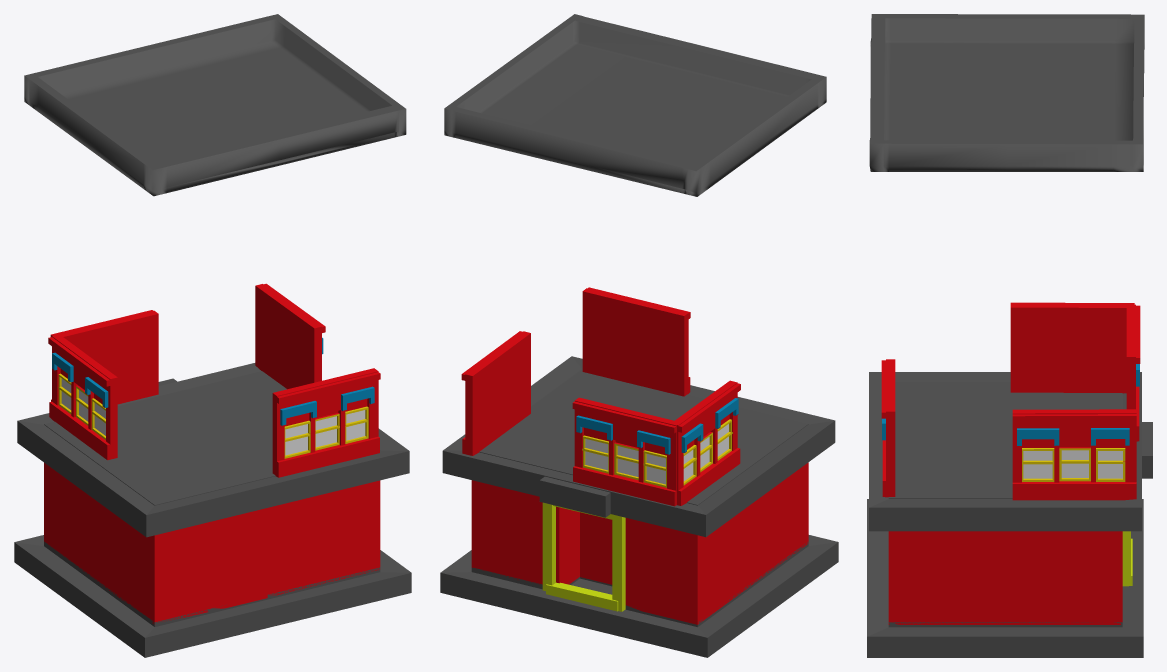
The model's file is building.glb.
The picture shows the model from 3 angles, left to right: view 1: azimuth 30°, elevation 25°; view 2: azimuth 150°, elevation 25°; view 3: azimuth 270°, elevation 25°; orthographic projection. The views are drawn at different scales.
Parts seen in each view (by area): view 1: Cube.005, Cube.004, Cube.006, Cube.003, Cube.001, Cube.002; view 2: Cube.005, Cube.004, Cube.006, Cube.002, Cube.001, Cube.003, Cube; view 3: Cube.005, Cube.004, Cube.001, Cube.003, Cube.006, Cube.002, Cube.
Boxes of the visible parts, box(x1,y1,x2,y2) form: Cube.005: box(14, 363, 411, 657); Cube.004: box(24, 14, 406, 196); Cube.006: box(272, 368, 380, 477); Cube.003: box(48, 336, 117, 460); Cube.001: box(255, 283, 325, 389); Cube.002: box(50, 310, 158, 404); Cube.005: box(440, 356, 838, 657); Cube.004: box(444, 14, 826, 196); Cube.006: box(582, 287, 690, 396); Cube.002: box(572, 397, 680, 506); Cube.001: box(461, 331, 530, 455); Cube.003: box(675, 380, 740, 505); Cube: box(542, 502, 625, 611); Cube.005: box(867, 372, 1152, 657); Cube.004: box(869, 14, 1144, 171); Cube.001: box(1012, 409, 1136, 500); Cube.003: box(1010, 302, 1134, 393); Cube.006: box(881, 359, 895, 497); Cube.002: box(1126, 304, 1140, 441); Cube: box(1122, 531, 1132, 586).
Size of what is drawn, in the model's own units: 82.75 by 144 by 72.59.
